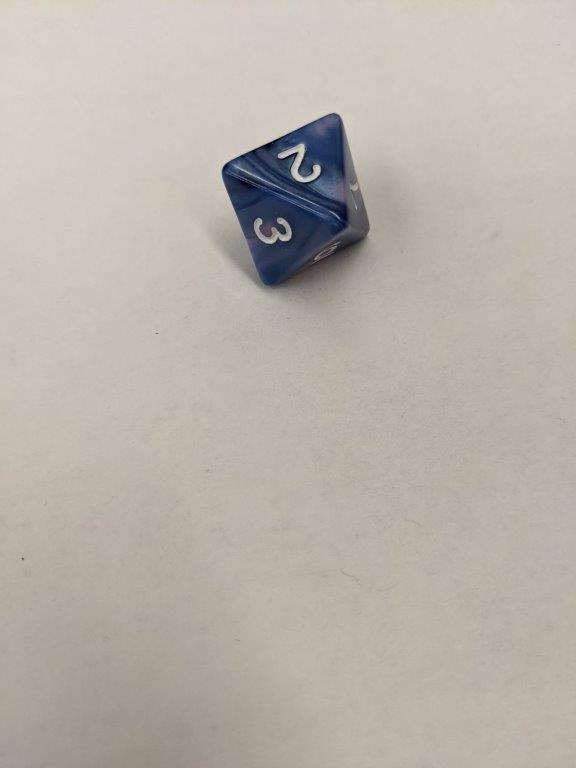d8-2: (220, 110, 370, 291)
